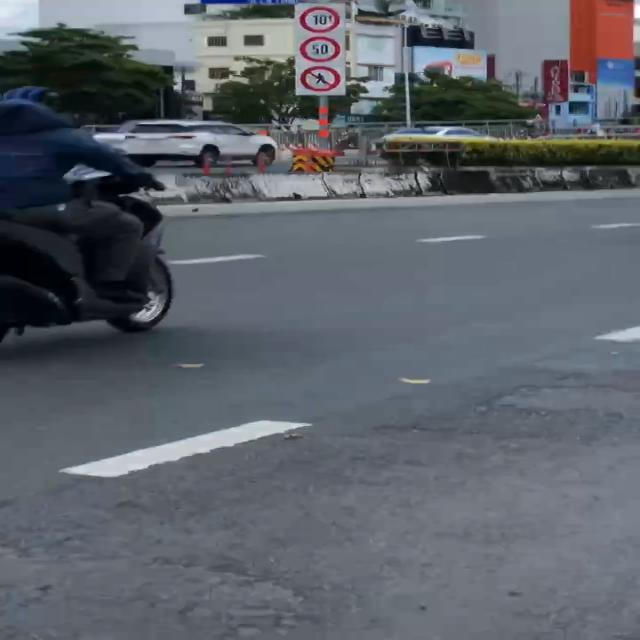Bien bao cam nguoi di bo: (300, 63, 344, 93)
Bien bao toc do toi da cho phep: (299, 36, 343, 64)
